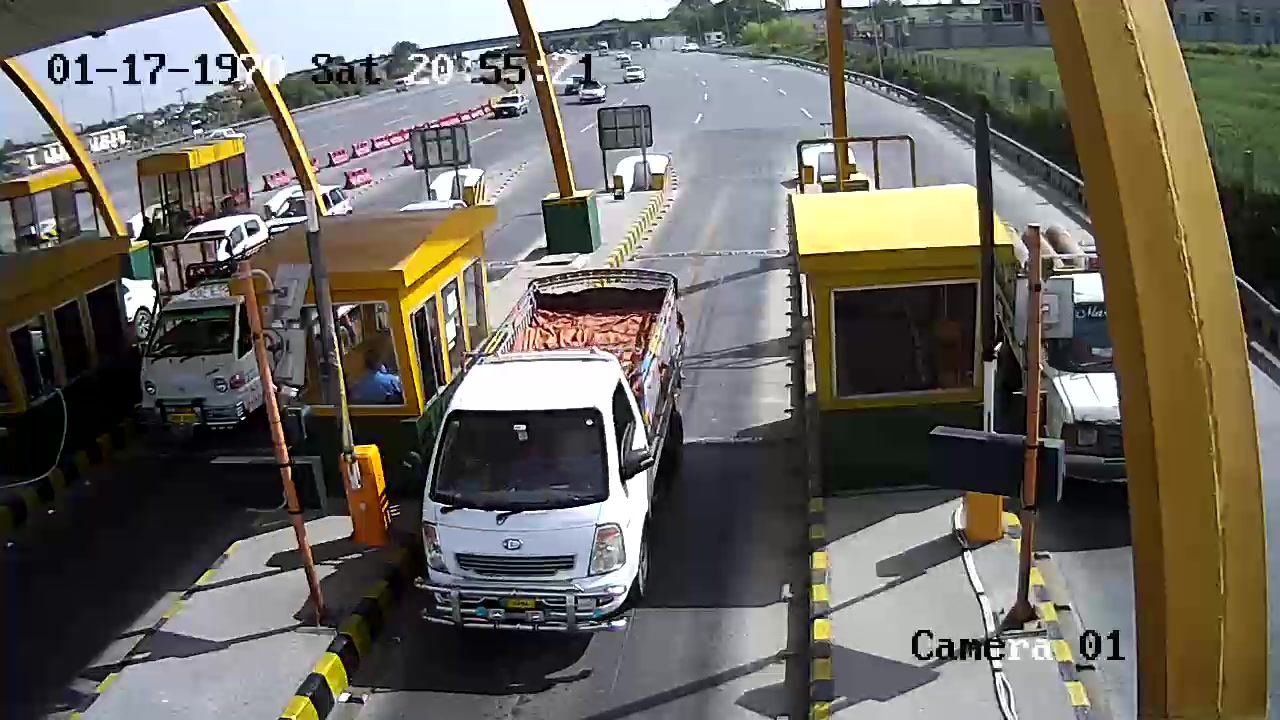F2: (418, 267, 699, 629)
